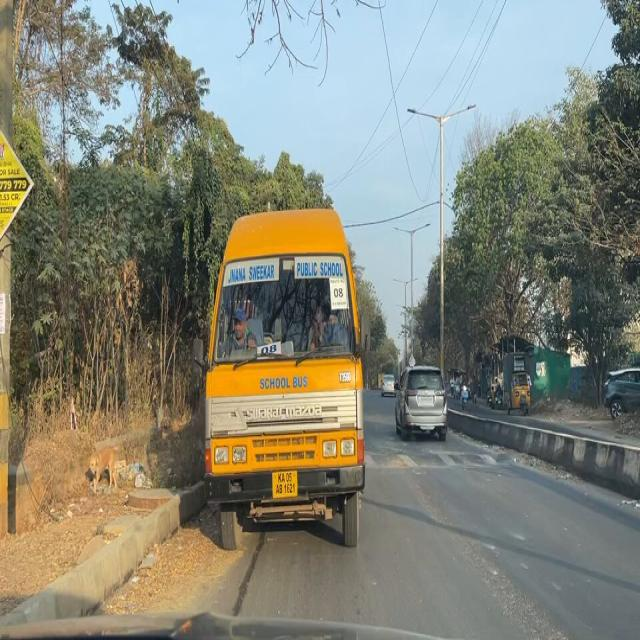bus: (204, 213, 365, 548)
car: (395, 364, 448, 440)
